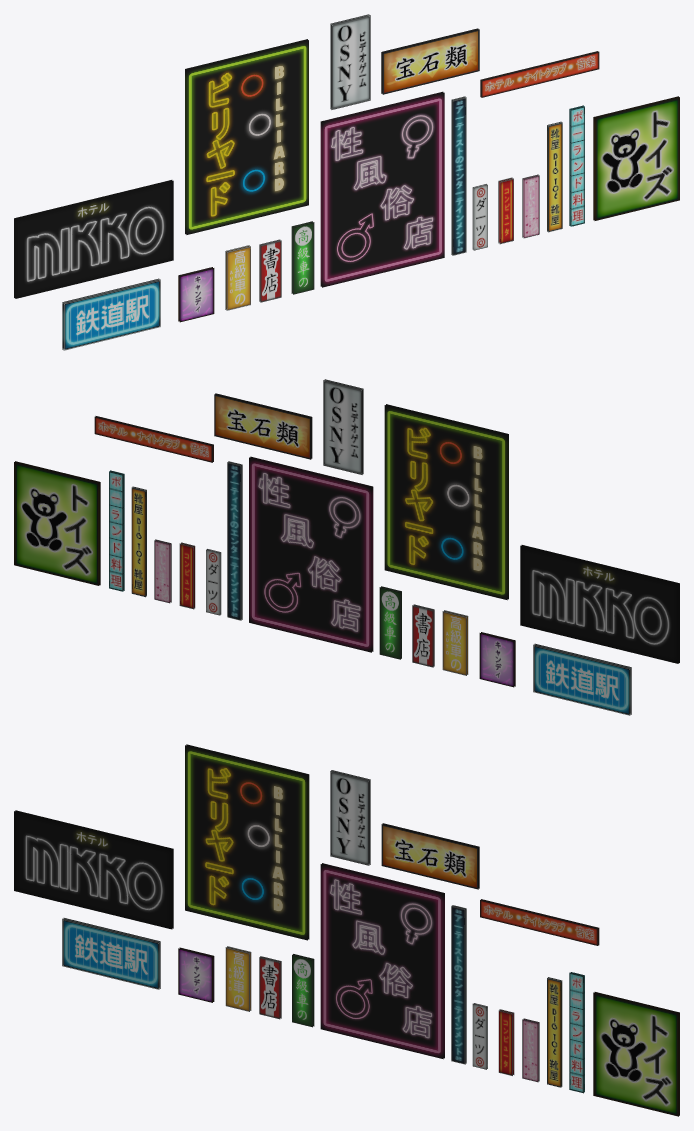
The model's file is lights.fbx.
The picture shows the model from 3 angles, top to bottom: view 1: azimuth 30°, elevation 25°; view 2: azimuth 150°, elevation 25°; view 3: azimuth 330°, elevation 25°; orthographic projection.
Parts seen in each view (by area): view 1: light_004, light_011, light_013, light_014, light_012, light_010, light_009, light_017, light_018, light_015, light_008, light_016 (+6 smaller); view 2: light_011, light_004, light_013, light_014, light_012, light_010, light_009, light_017, light_018, light_015, light_008, light_016 (+6 smaller); view 3: light_011, light_004, light_013, light_014, light_012, light_010, light_009, light_017, light_018, light_015, light_008, light_016 (+6 smaller).
Boxes of the visible parts, x1,y1,x2,y2 form: light_004: [320, 91, 444, 287]; light_011: [185, 39, 308, 234]; light_013: [14, 180, 173, 298]; light_014: [593, 96, 679, 220]; light_012: [62, 278, 160, 350]; light_010: [381, 28, 479, 94]; light_009: [330, 14, 370, 109]; light_017: [451, 96, 466, 255]; light_018: [480, 51, 599, 97]; light_015: [569, 105, 584, 226]; light_008: [178, 267, 214, 322]; light_016: [547, 121, 562, 232]; light_011: [384, 404, 508, 600]; light_004: [249, 456, 373, 652]; light_013: [520, 545, 679, 663]; light_014: [14, 461, 100, 585]; light_012: [533, 643, 631, 715]; light_010: [214, 393, 312, 459]; light_009: [323, 379, 363, 474]; light_017: [227, 461, 242, 620]; light_018: [94, 416, 213, 462]; light_015: [109, 470, 124, 591]; light_008: [479, 632, 515, 687]; light_016: [131, 486, 146, 597]; light_011: [185, 744, 309, 940]; light_004: [320, 863, 444, 1059]; light_013: [14, 810, 173, 929]; light_014: [593, 992, 679, 1116]; light_012: [62, 918, 160, 989]; light_010: [381, 823, 479, 889]; light_009: [330, 770, 370, 865]; light_017: [451, 905, 466, 1064]; light_018: [480, 899, 599, 945]; light_015: [569, 972, 584, 1093]; light_008: [178, 947, 214, 1002]; light_016: [547, 977, 562, 1087].
Size of the model in its own units: 23.75 by 8.9 by 0.082.
